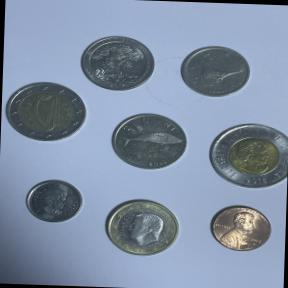1 Euro-B: (98, 194, 186, 262)
2 Euro-B: (0, 76, 89, 146)
Canada-10cent-B: (21, 175, 86, 227)
Canada-2Dollar-B: (201, 116, 288, 195)
Croatia-2Kune-B: (107, 107, 192, 176)
US-1cent-B: (204, 200, 276, 255)
US-25cent-B: (76, 31, 160, 94)
